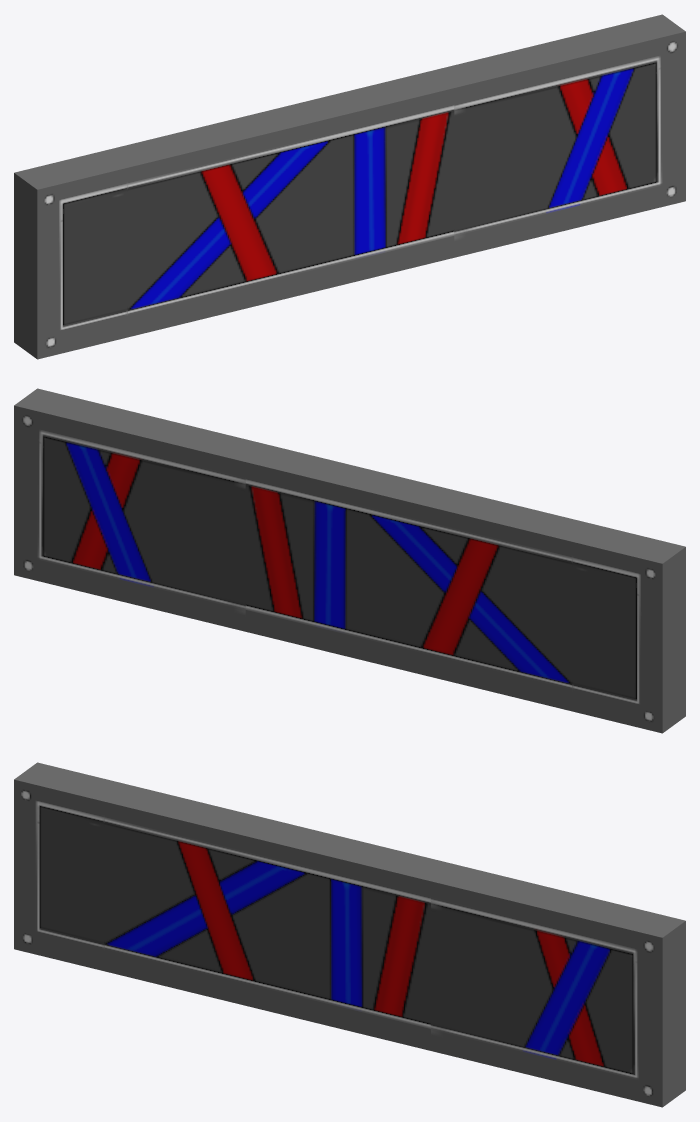
File: space_border_plank.gltf
3 renders of one model, top to bottom at view 1: azimuth 30°, elevation 25°; view 2: azimuth 150°, elevation 25°; view 3: azimuth 330°, elevation 25°, orthographic.
Parts seen in each view (by area): view 1: space_border_plank_glb; view 2: space_border_plank_glb; view 3: space_border_plank_glb.
Boxes of the visible parts, left/top/right/bottom form: space_border_plank_glb: left=14, top=14, right=685, bottom=359; space_border_plank_glb: left=14, top=388, right=685, bottom=733; space_border_plank_glb: left=14, top=762, right=685, bottom=1107.
Size of what is drawn, in the model's own units: 4 by 1 by 0.25.
Materials: 1 (1 with a texture image).
